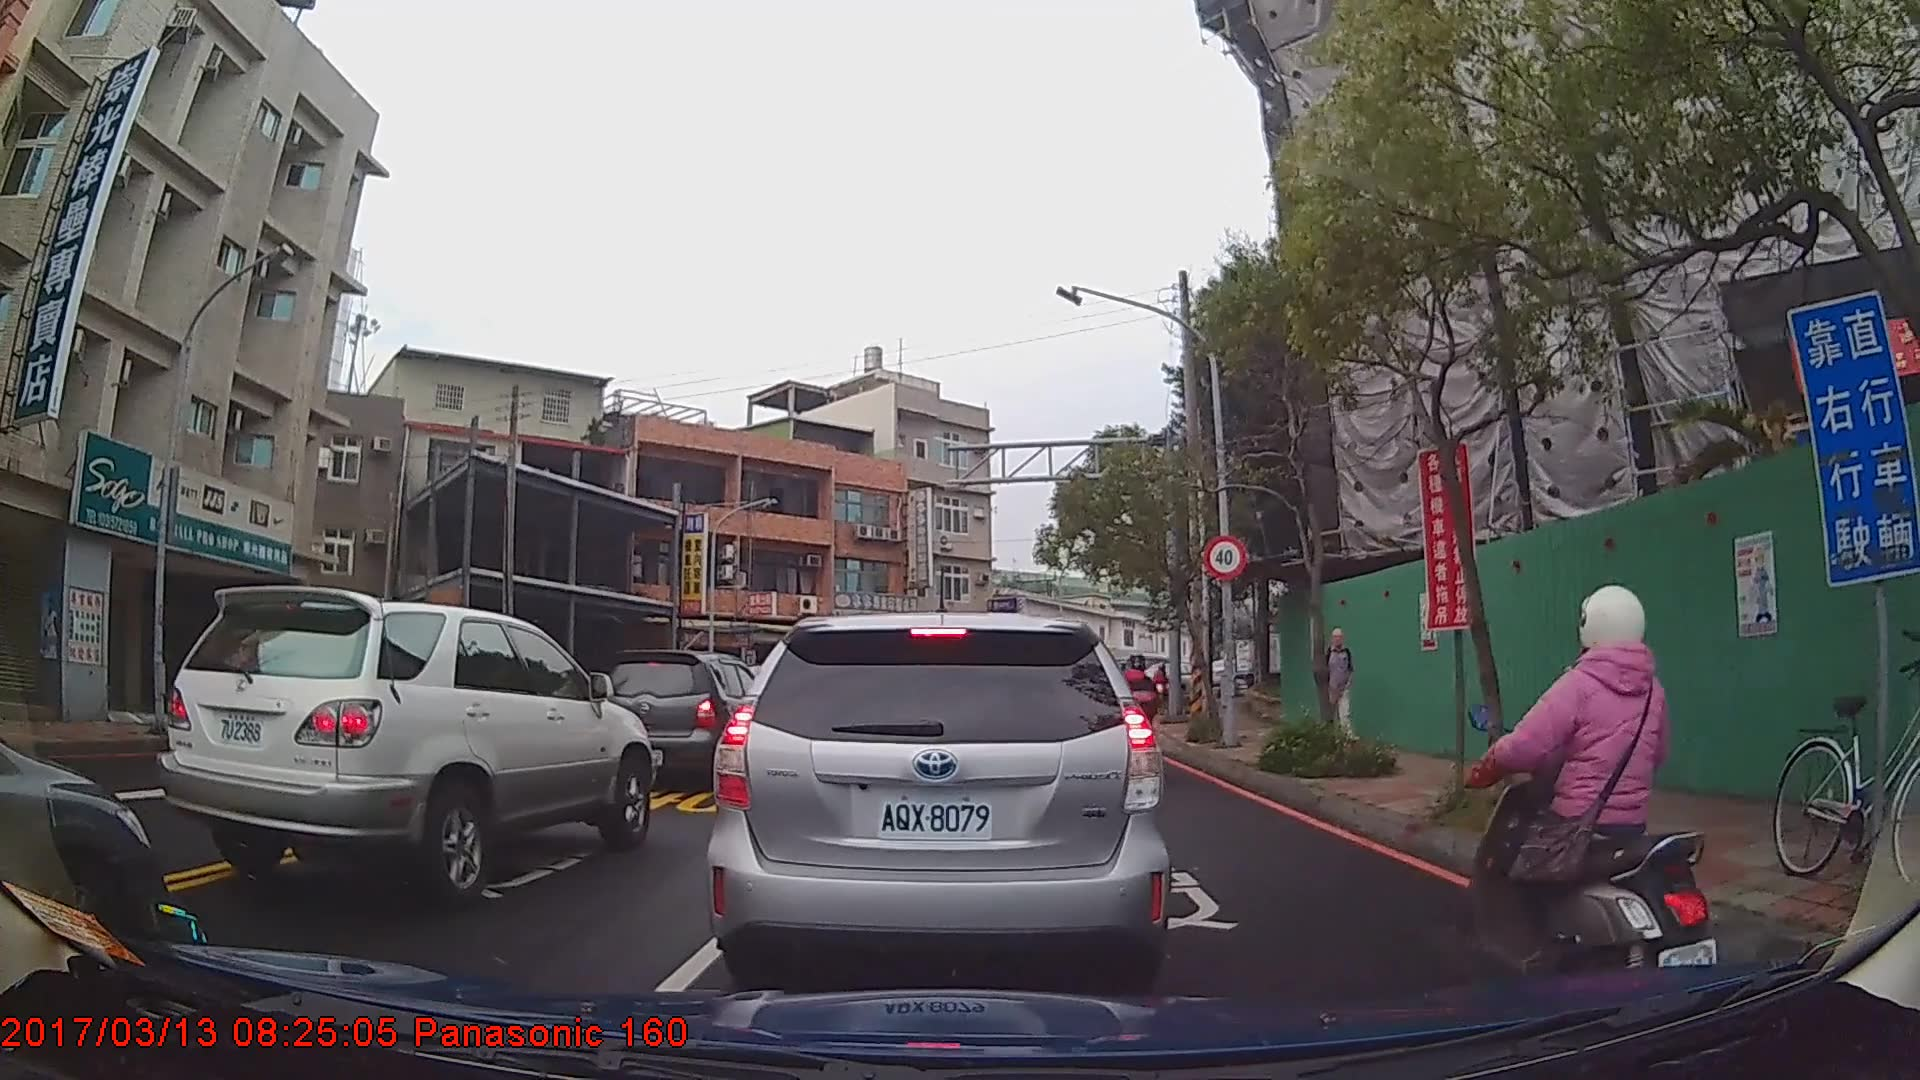pedestrian: (1318, 626, 1361, 748)
rider: (1450, 584, 1721, 1029), (1120, 653, 1165, 771)
vehicle: (702, 612, 1172, 1009), (158, 584, 655, 908), (0, 734, 163, 970), (592, 648, 770, 784)
